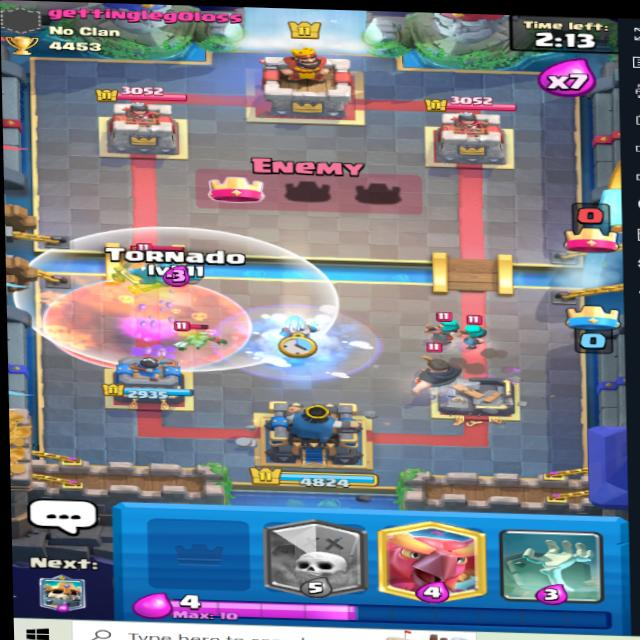cannon-cart: (112, 246, 163, 294)
electro-dragon: (133, 244, 200, 295)
minion: (179, 320, 221, 353)
rascal-boy: (406, 340, 470, 390)
rascal-girl: (420, 305, 465, 337), (461, 309, 500, 342)
